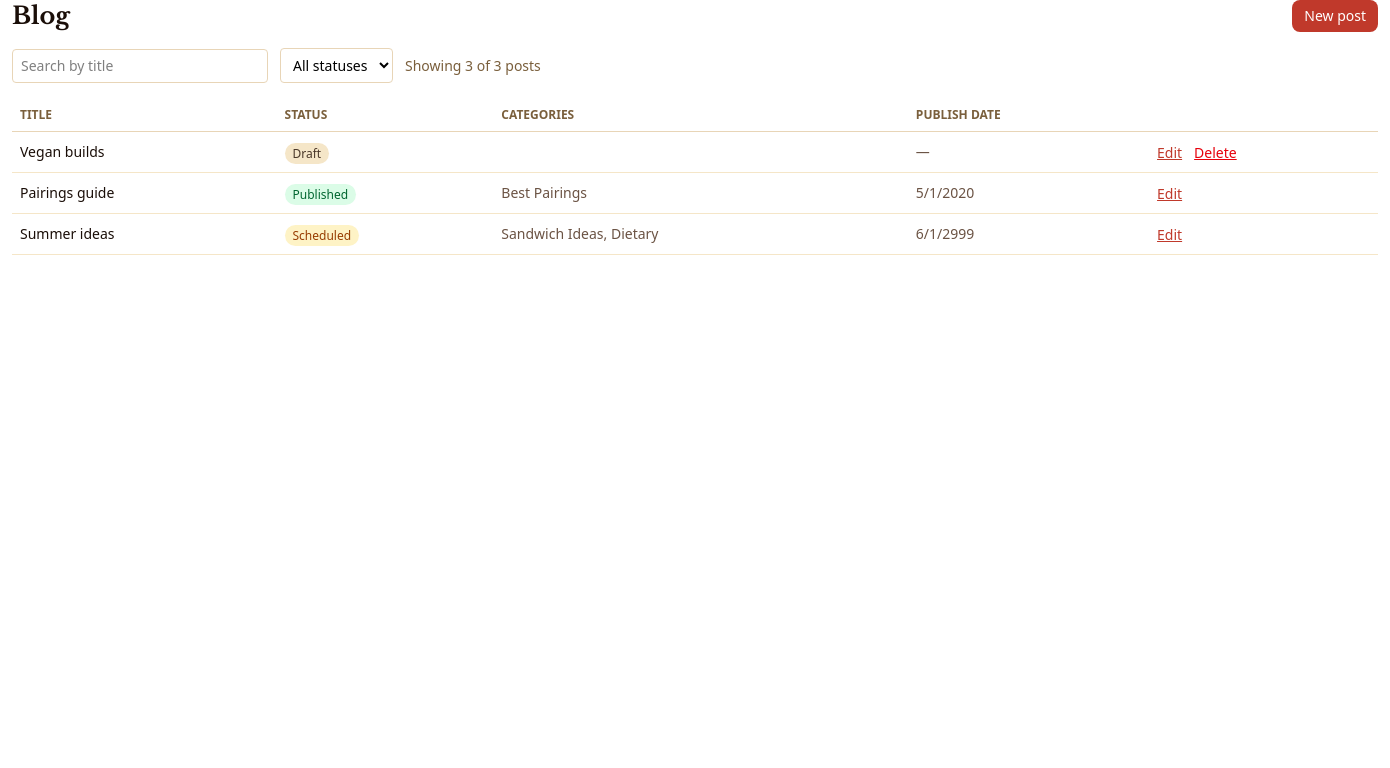
Test: BlogManagementPage editing a post › saves the changes to the post by its slug
Expected: the text "Vegan builds" is shown, [12,132,276,172]
Click the button with aria-label "Edit Vegan builds" at (1170, 153), box [1157,143,1182,163]
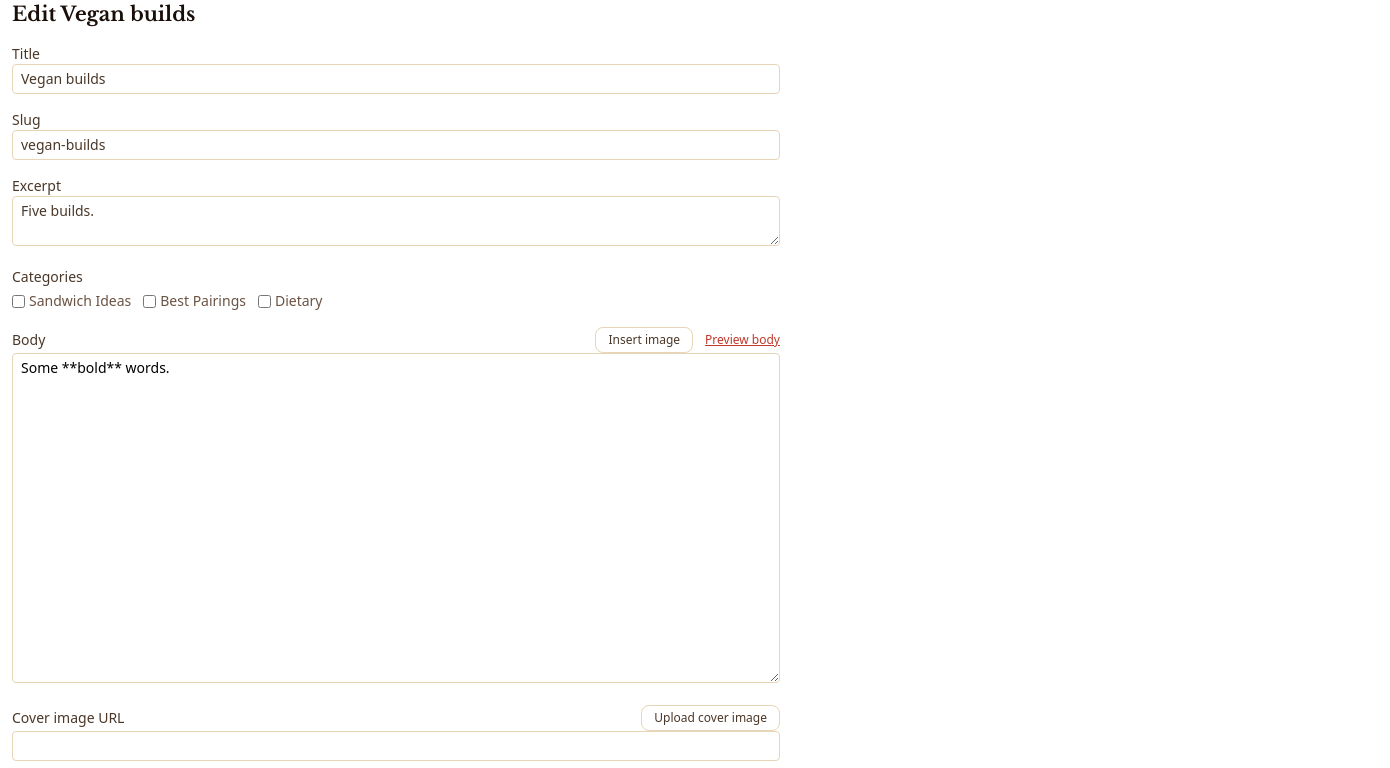
Type ", revised" into the field labelled "Title" at (396, 79), box [12,64,780,94]
(page scrolled)
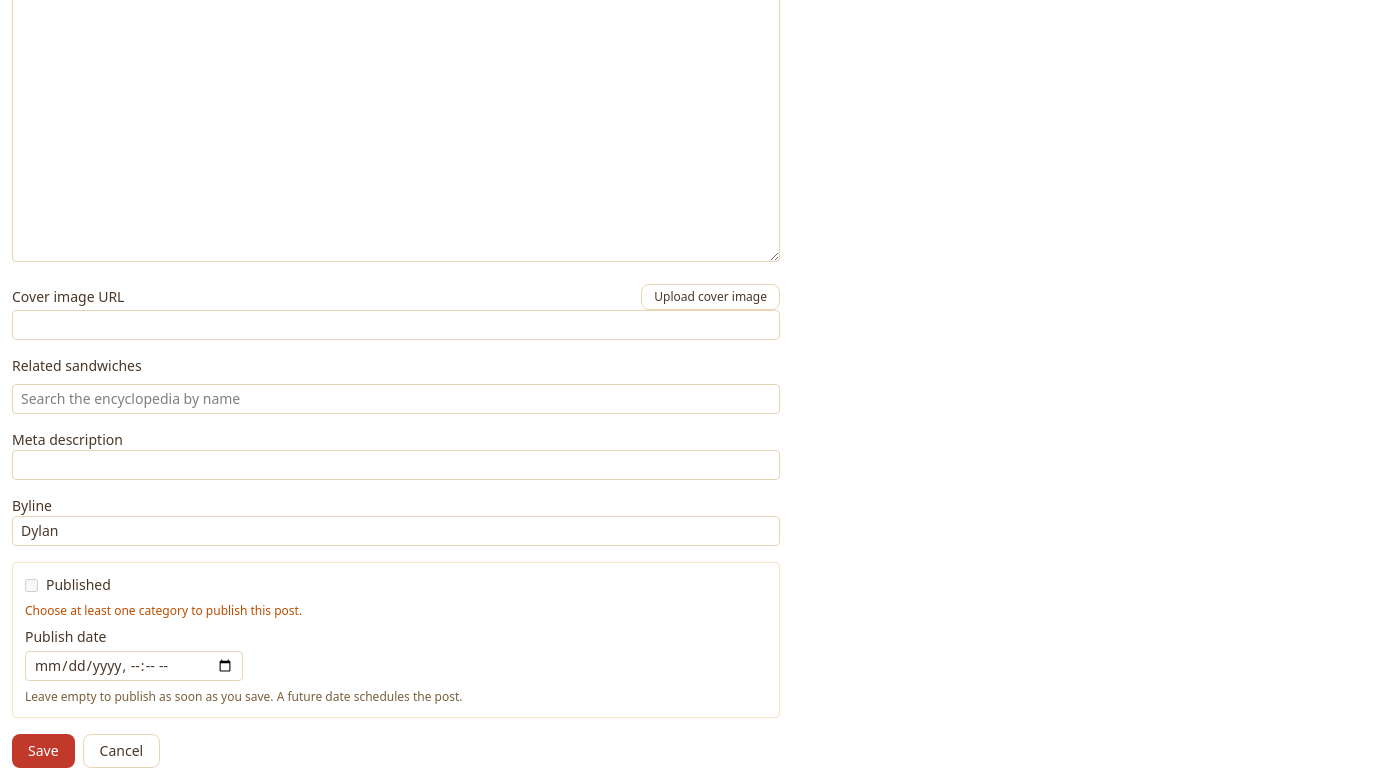
Click the button "Save" at (43, 751), box [12,734,75,767]
(page scrolled)
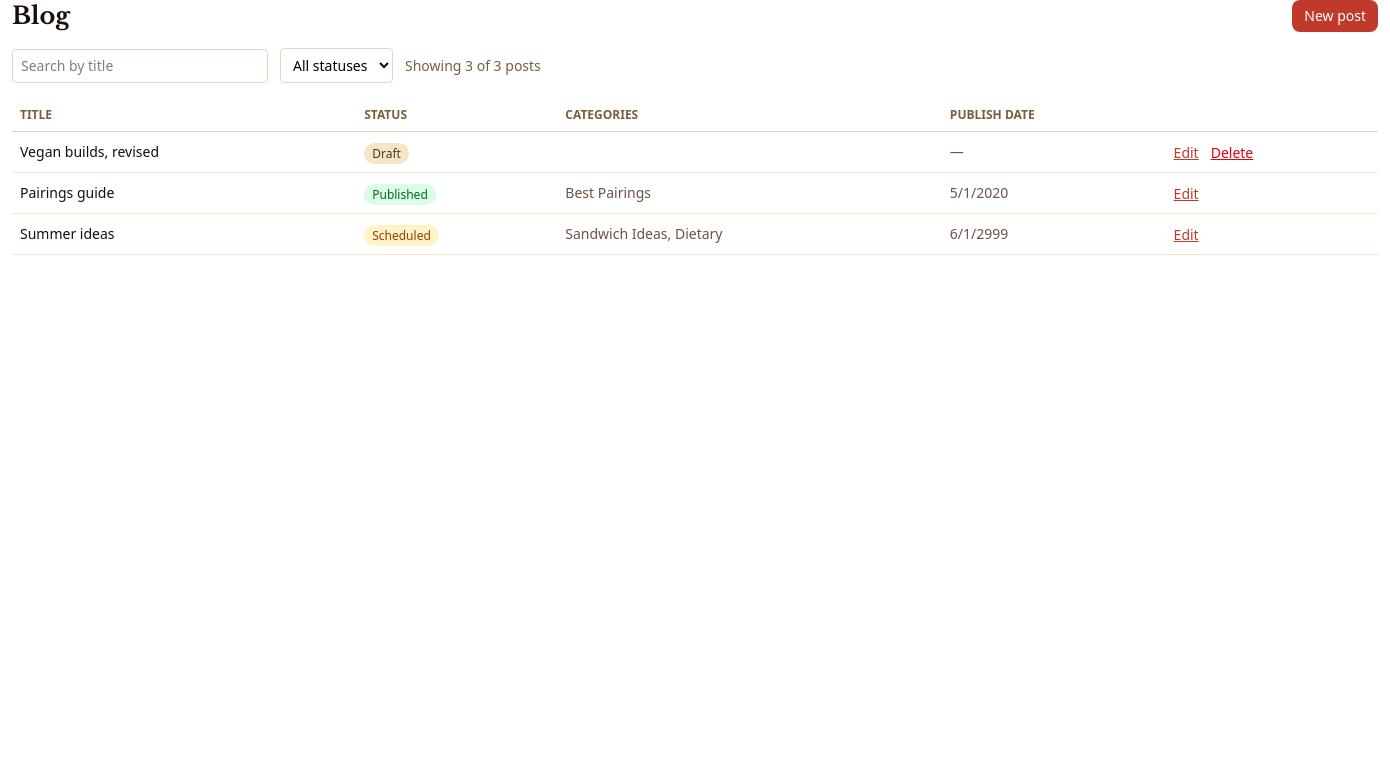
Expected: the text "Vegan builds, revised" is shown, [12,132,356,172]
